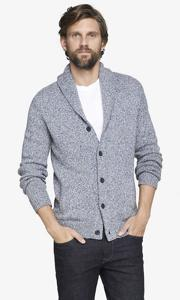C_cardigan sweater: (19, 64, 168, 239)
